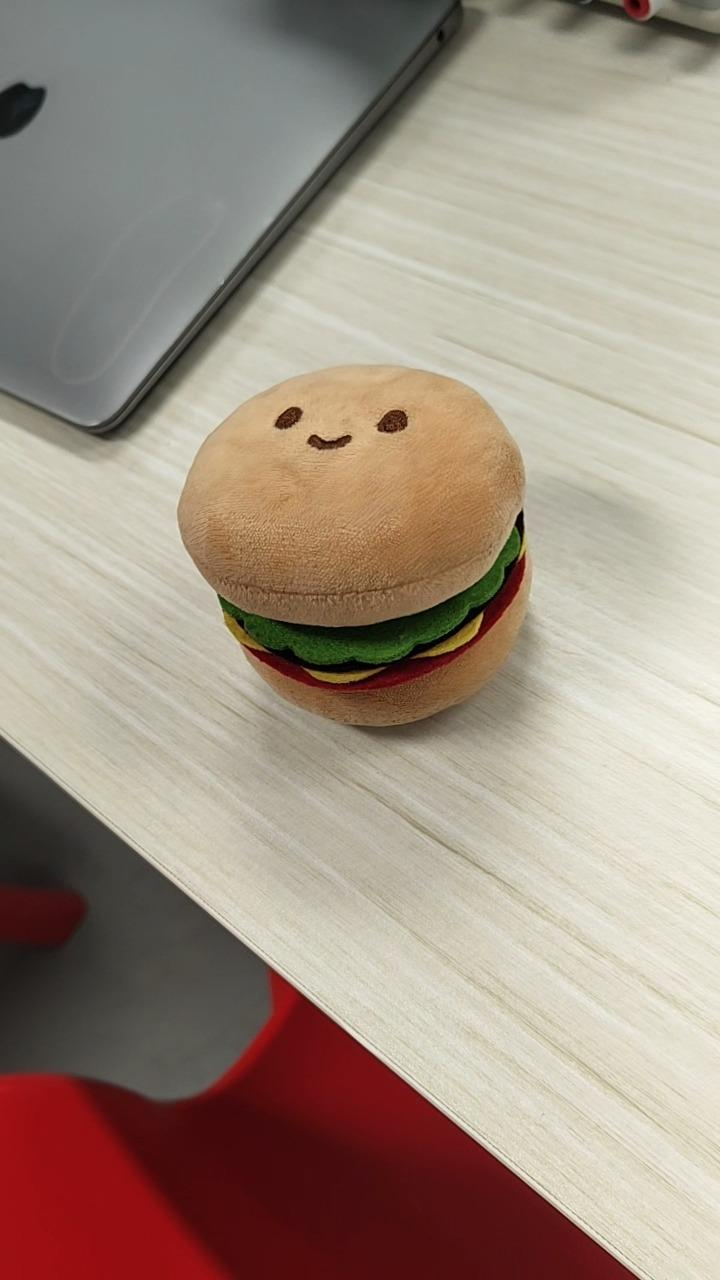hamburger: (175, 361, 533, 729)
